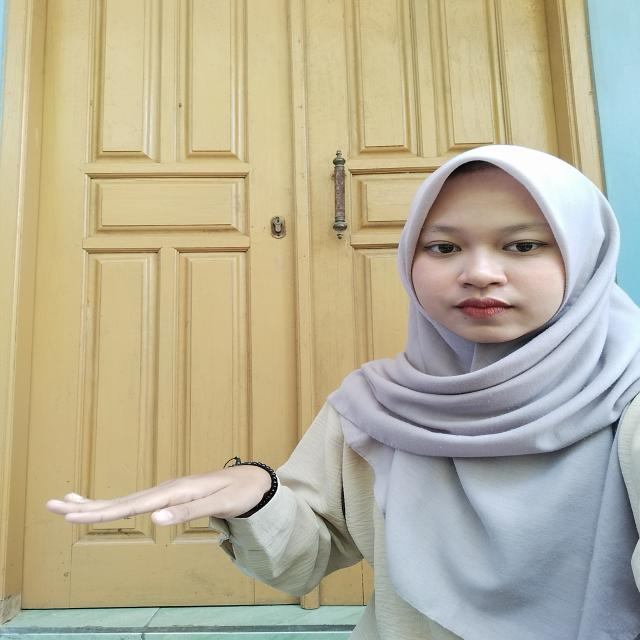adik: (31, 446, 301, 548)
